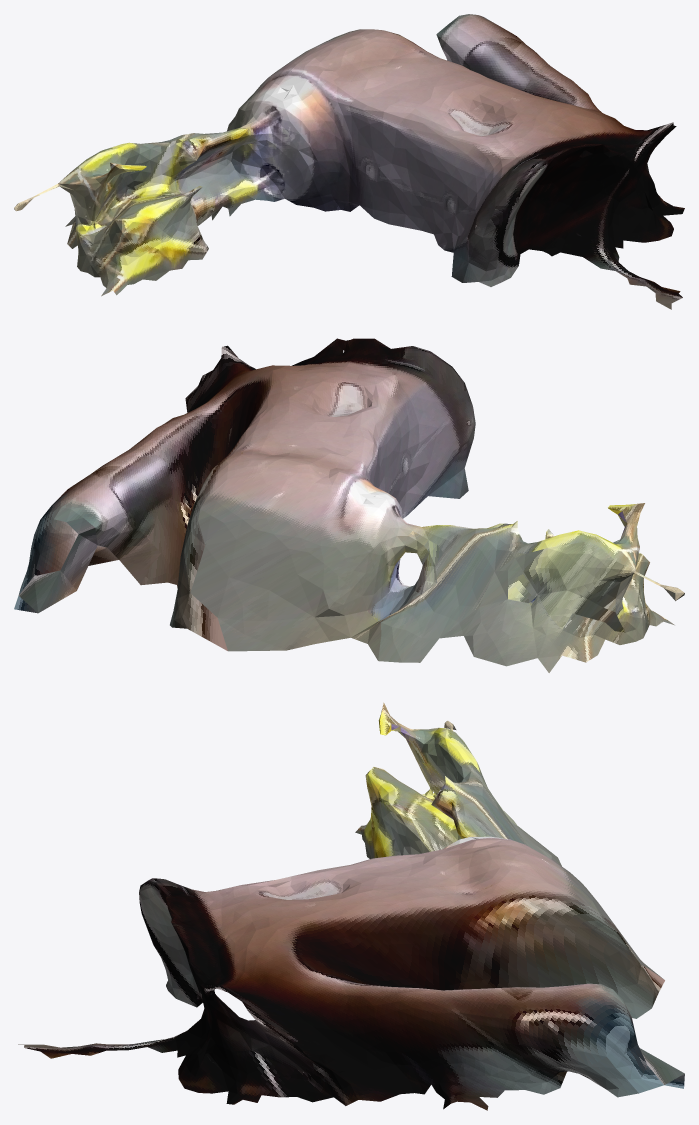
The model's file is smart-whisk.glb.
3 views of the same model, one above another, from view 1: azimuth 30°, elevation 25°; view 2: azimuth 150°, elevation 25°; view 3: azimuth 270°, elevation 25° (orthographic). The views are drawn at different scales.
Parts seen in each view (by area): view 1: Mesh_0.011; view 2: Mesh_0.011; view 3: Mesh_0.011.
Part boxes in pixels (x1,y1,x2,y2): Mesh_0.011: (14,14,684,309); Mesh_0.011: (14,338,684,672); Mesh_0.011: (18,702,684,1110).
Size of the model in its own units: 0.3581 by 0.074 by 0.3205.
Materials: 1 (1 with a texture image).
